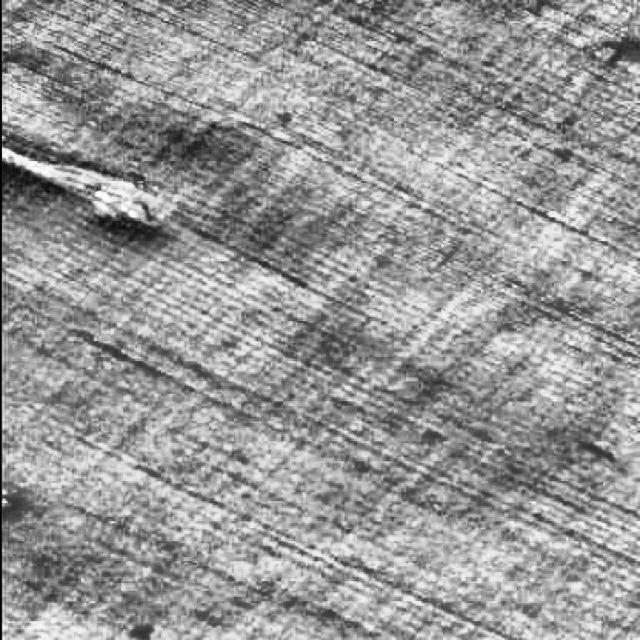hole: (2, 120, 192, 261)
